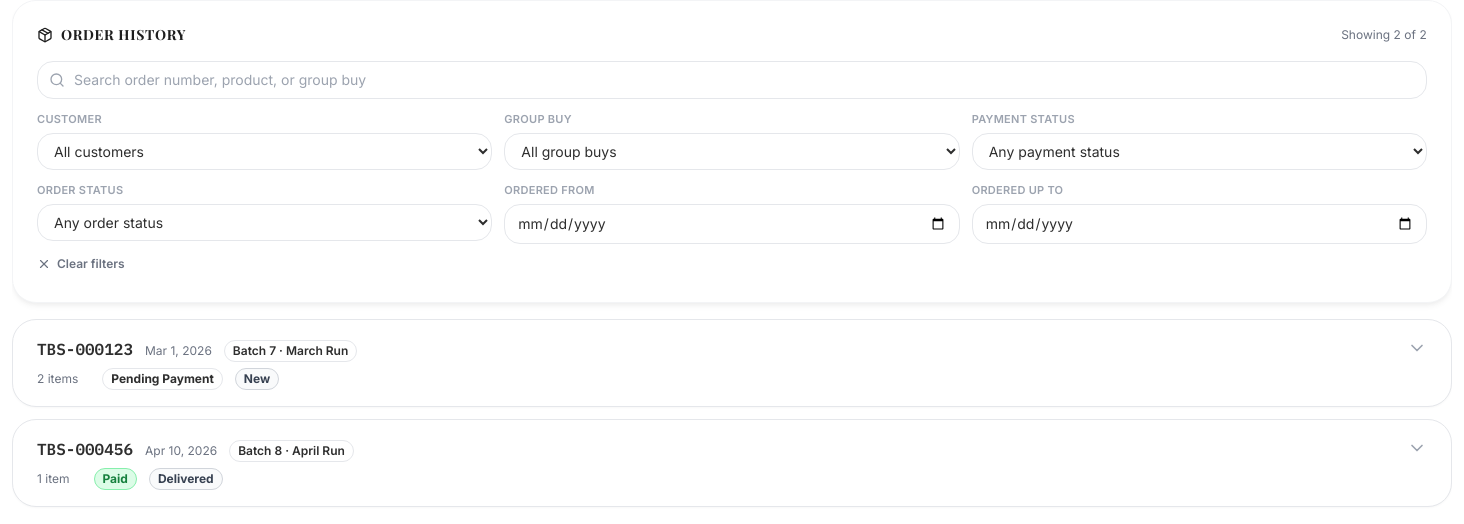
Test: OrderHistoryPanel › narrows the list as the customer types a search
Type "Retatrutide" into the search field labelled "Search order number, product, or group buy" at coordinates (732, 80), box top-left (37, 61), bottom-right (1427, 99)
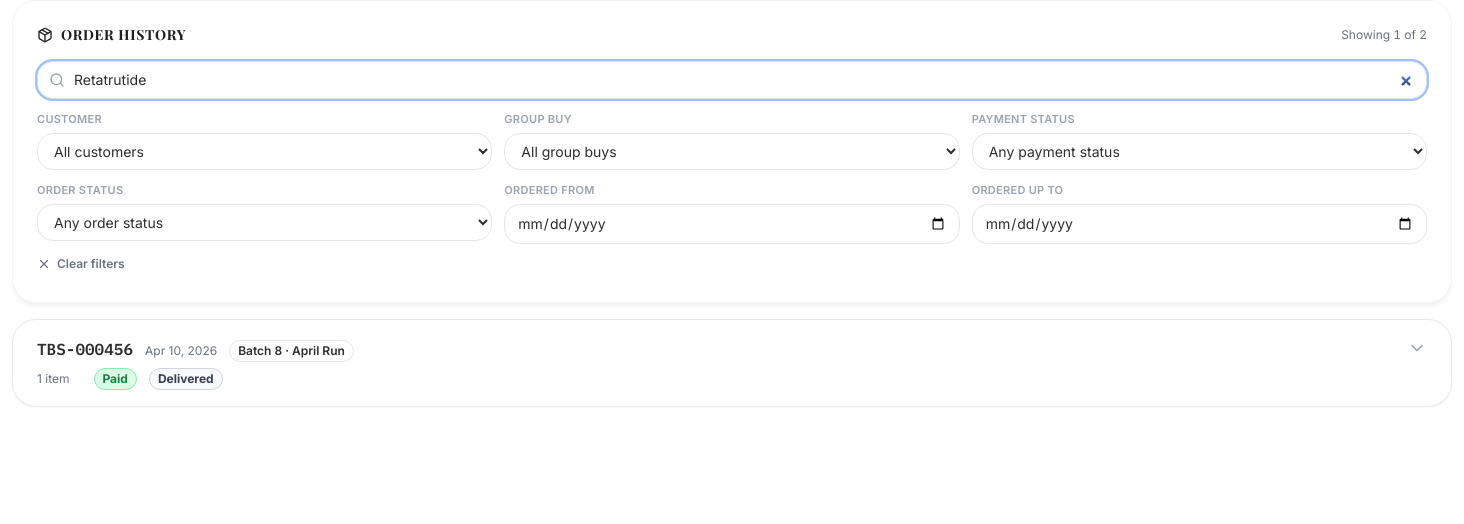
Expected: the button "TBS-000456" is shown, top-left (13, 320), bottom-right (1451, 406)
Now the button "TBS-000123" is gone
